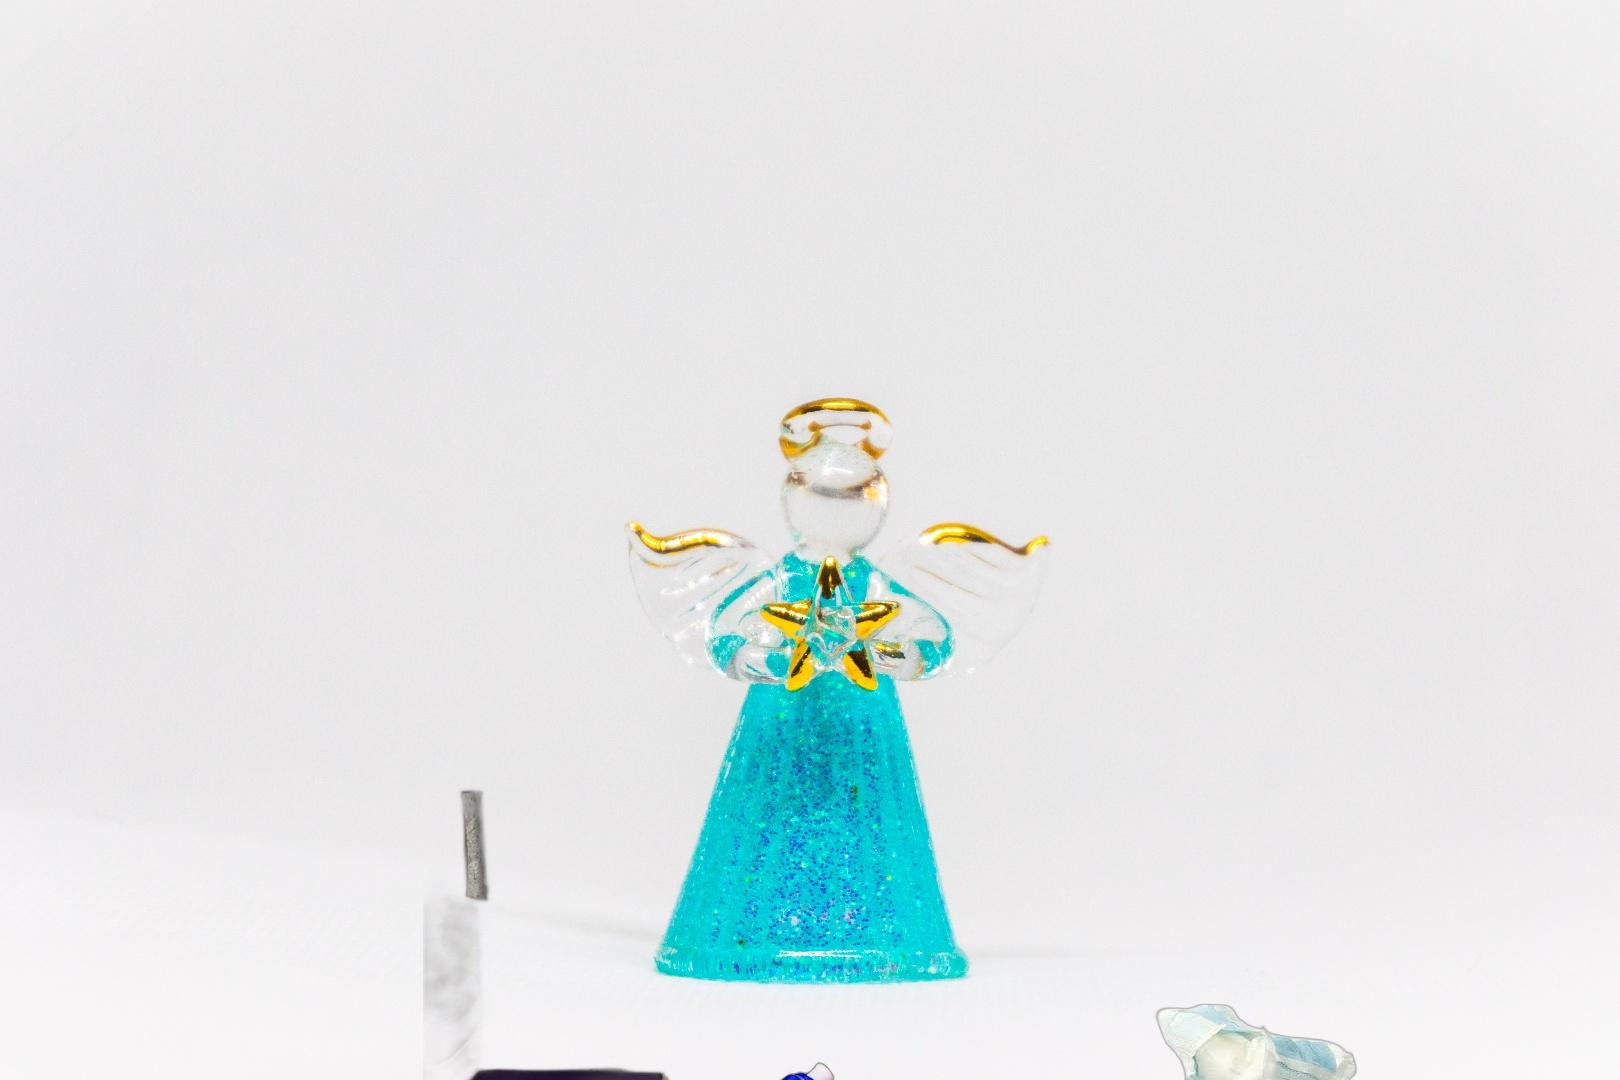plastic-bottles: (669, 1060, 837, 1080)
trash: (1152, 1000, 1358, 1080)
trashbox-cardboard: (423, 776, 673, 1080)
